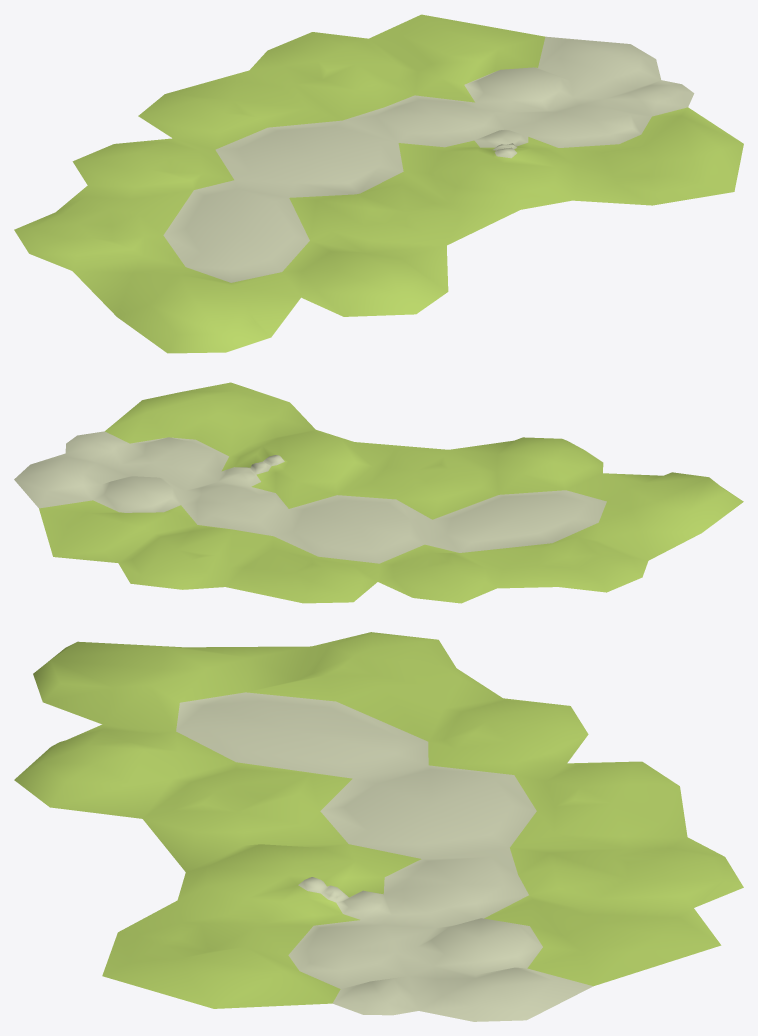
File: ground.dae
The picture shows the model from 3 angles, top to bottom: view 1: azimuth 30°, elevation 25°; view 2: azimuth 150°, elevation 25°; view 3: azimuth 270°, elevation 25°; orthographic projection. The views are drawn at different scales.
Visible parts, largest first — view 1: Plane_035; view 2: Plane_035; view 3: Plane_035.
Boxes of the visible parts, box(x1,y1,x2,y2) form: Plane_035: box(14, 14, 743, 353); Plane_035: box(14, 382, 743, 603); Plane_035: box(14, 632, 743, 1021).
Size of the model in its own units: 43.15 by 34.19 by 1.44.
